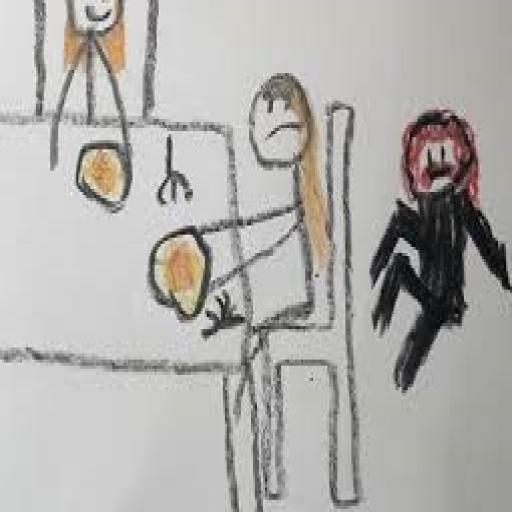person: (367, 104, 512, 397), (200, 67, 326, 342), (29, 0, 163, 217)
